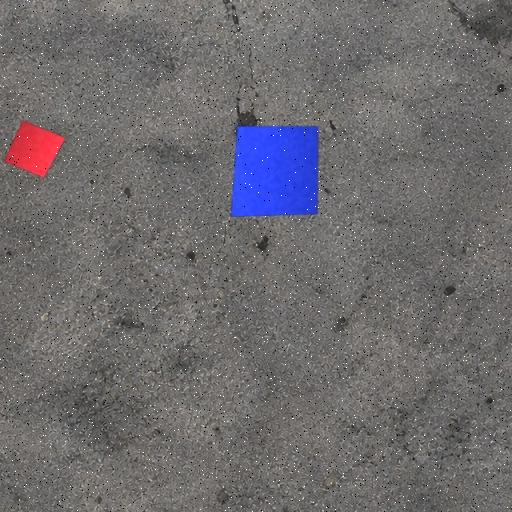BLUE_SQUARE: (230, 126, 320, 218)
RED_SQUARE: (4, 120, 66, 178)
